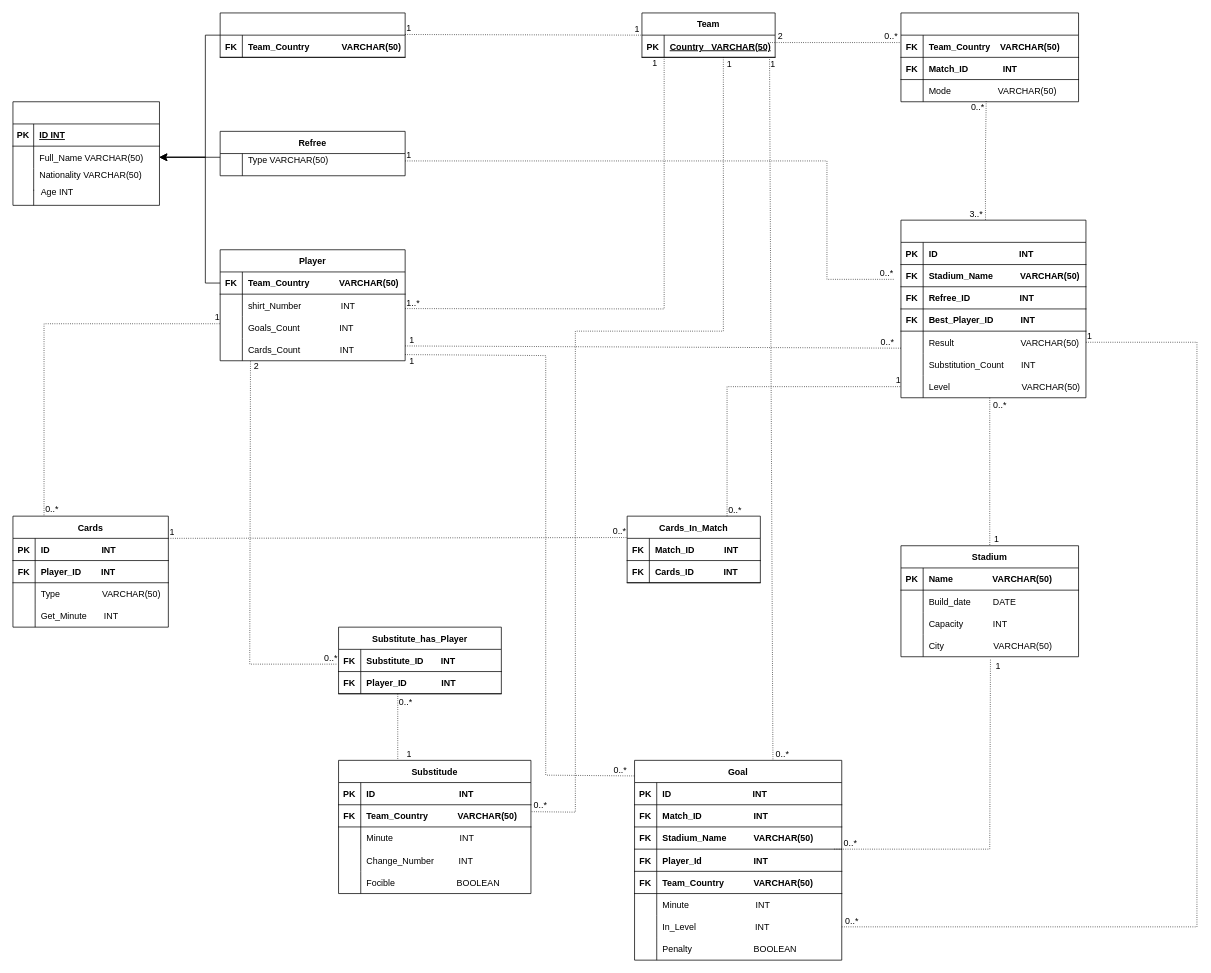
Some shapes in this 1211 by 973 pixel diagram are drawn without their labels. Here are the shapes that lost their labels. From the top down, the box of each, then its label:
(219, 12, 405, 57): Manager
(900, 12, 1079, 102): Team_Participate_Match
(12, 101, 159, 205): Person
(900, 219, 1086, 398): Match
